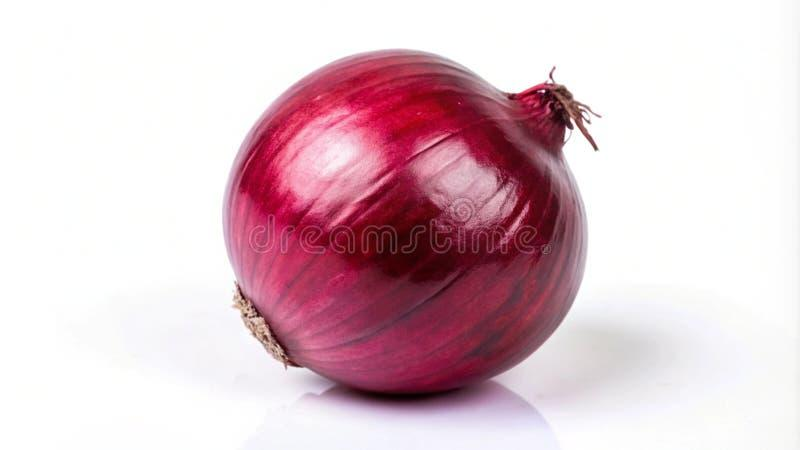Onion: (224, 50, 585, 392)
